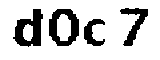0: (46, 4, 81, 51)
7: (114, 4, 151, 54)
c: (82, 16, 110, 50)
d: (10, 4, 44, 52)
